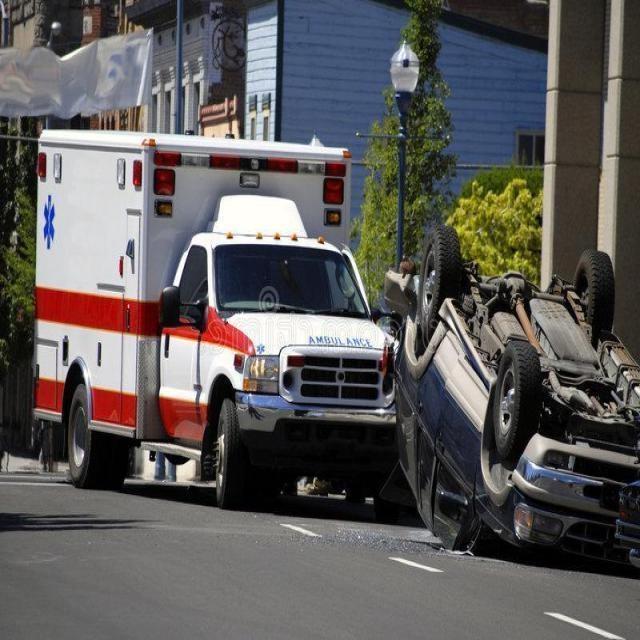car Accident: (39, 150, 634, 549)
